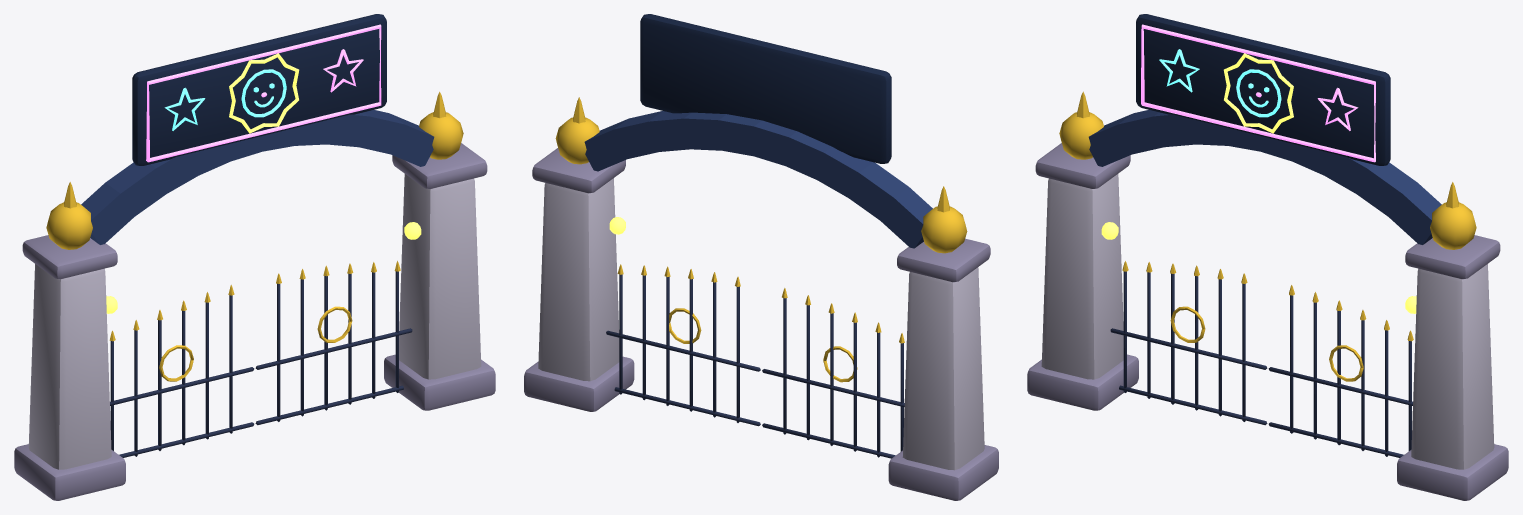
File: W1_ZooGate.fbx
The picture shows the model from 3 angles, left to right: view 1: azimuth 30°, elevation 25°; view 2: azimuth 150°, elevation 25°; view 3: azimuth 330°, elevation 25°; orthographic projection.
Parts seen in each view (by area): view 1: Static, Door_L, Door_R; view 2: Static, Door_L, Door_R; view 3: Static, Door_R, Door_L.
Part boxes in pixels (x1,y1,x2,y2): Static: (14,14,495,500); Door_L: (255,261,412,425); Door_R: (109,285,254,457); Static: (524,14,998,500); Door_L: (606,264,760,426); Door_R: (762,288,904,458); Static: (1027,14,1508,500); Door_R: (1110,261,1267,425); Door_L: (1268,285,1413,457).
Bounding box in the file's own units: 16.8 × 14.3 × 2.8.
